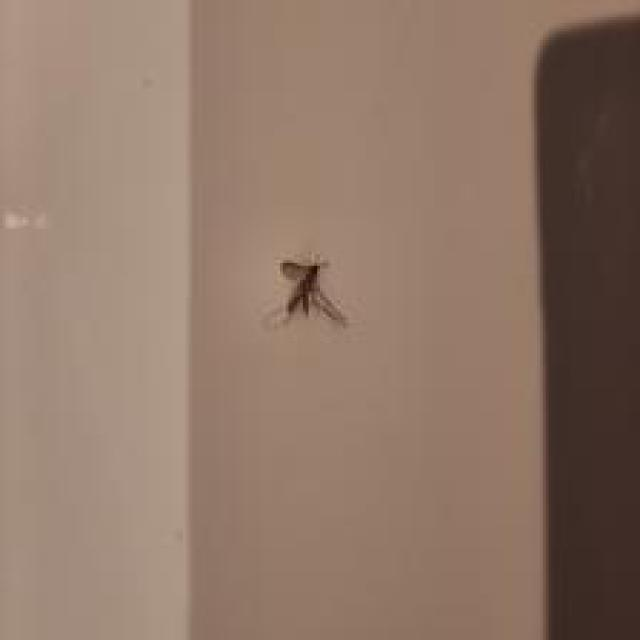Culex: (266, 252, 348, 332)
